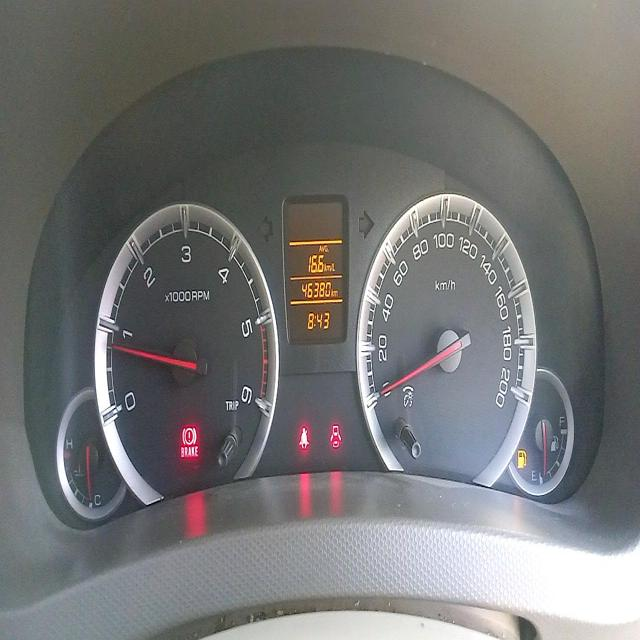odometer: (298, 277, 332, 301)
